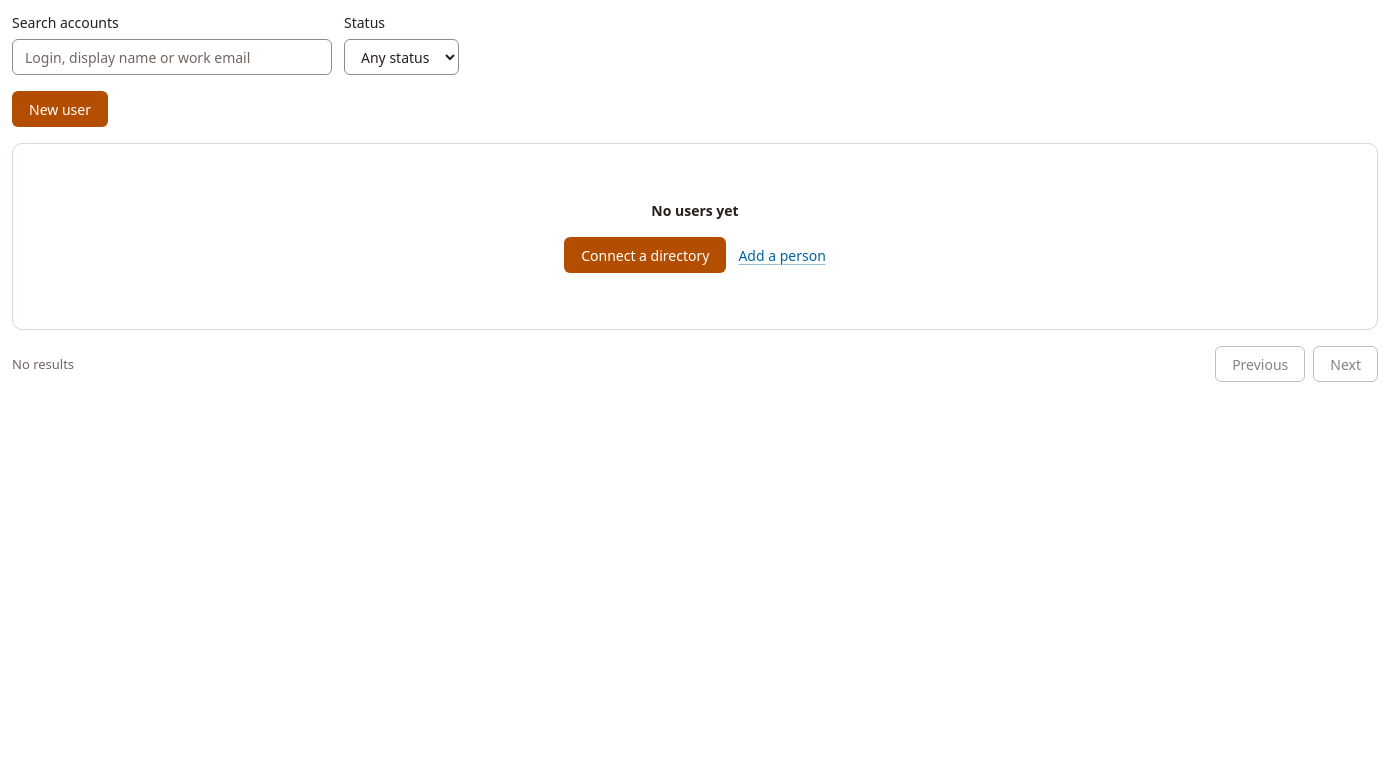
it: AccountsTab person picker › says when the chosen person is already placed somewhere
Click the button "New user".
click(60, 109)  # box left=12, top=91, right=108, bottom=127
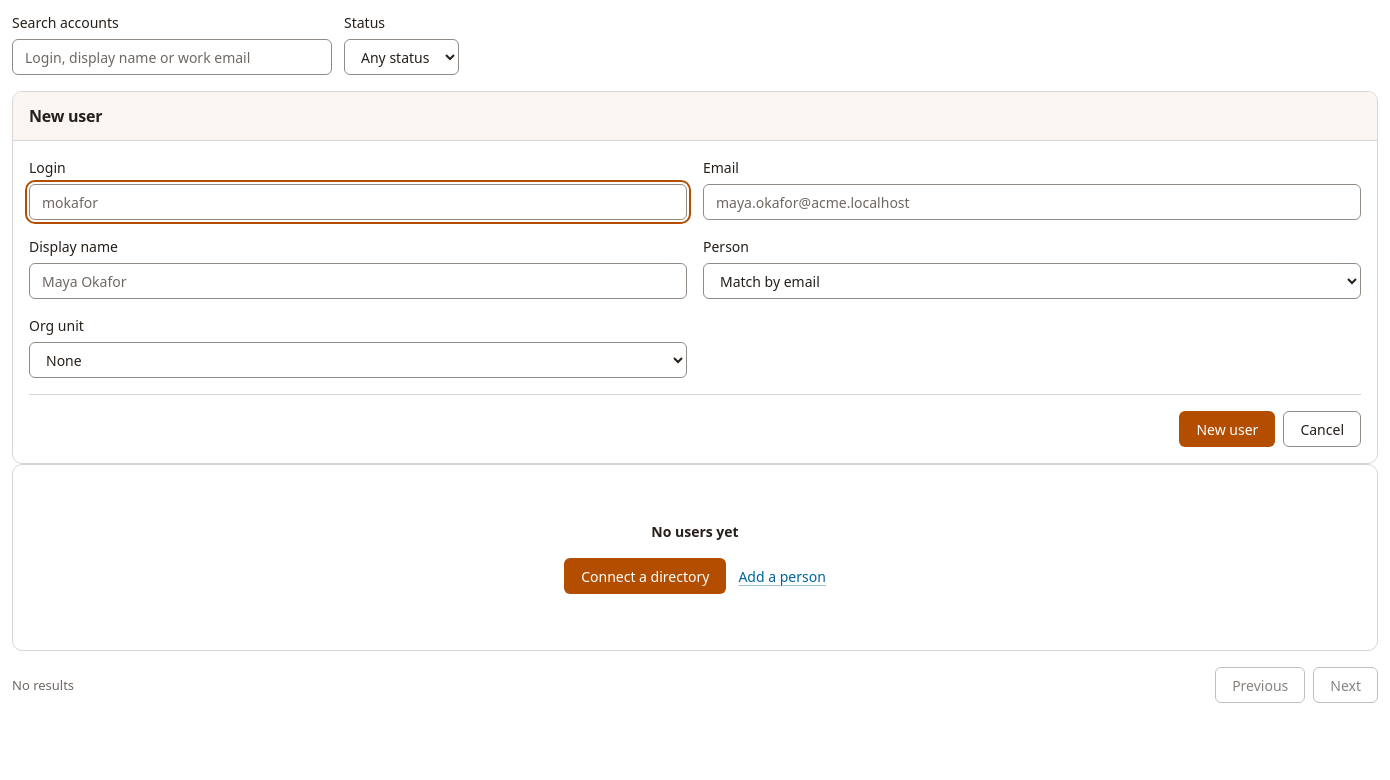
Select "Kaycen Tyre" in the dropdown labelled "Person" at (1032, 281), box left=703, top=263, right=1361, bottom=299
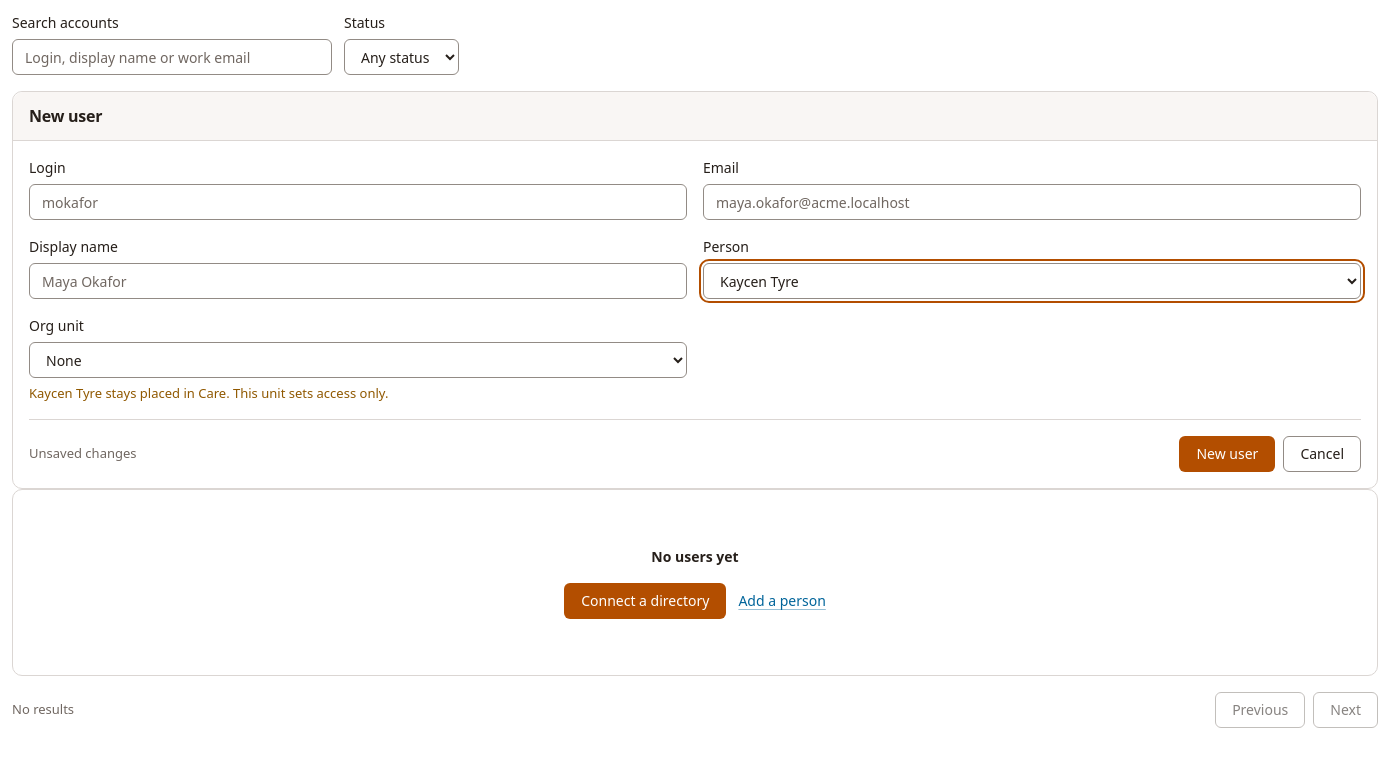
expect the text "stays placed in Care" is shown: met, box left=29, top=384, right=388, bottom=402
